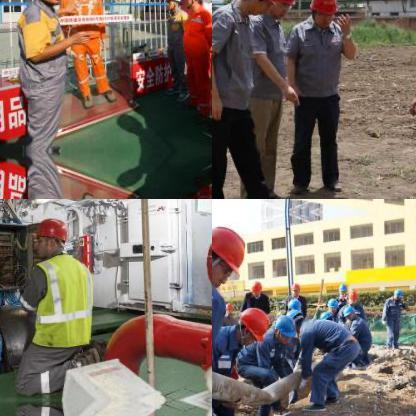Helmet: (212, 217, 254, 286), (31, 212, 71, 256), (234, 304, 268, 342), (307, 0, 337, 25), (239, 0, 283, 16), (269, 313, 293, 339), (269, 0, 294, 17), (286, 308, 304, 324), (162, 0, 182, 11), (184, 0, 205, 10), (342, 304, 356, 318), (324, 297, 338, 311), (287, 280, 301, 294), (248, 279, 260, 295), (391, 285, 401, 299), (348, 288, 358, 302), (338, 280, 346, 296)
